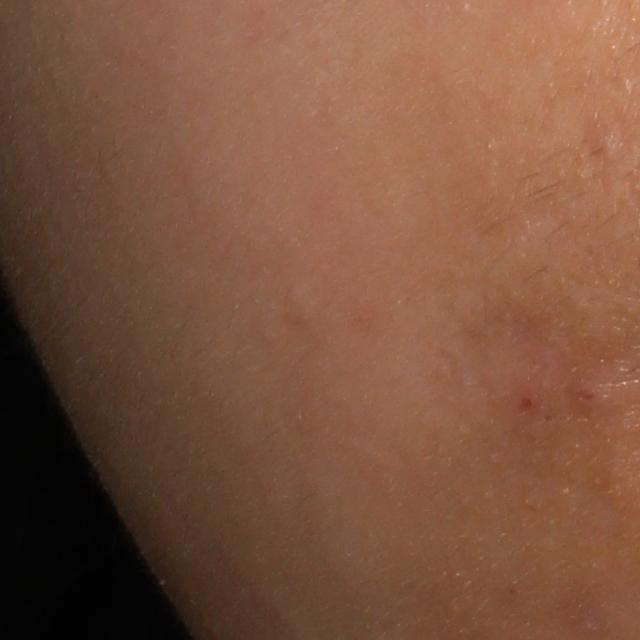comedo: (598, 133, 620, 157)
